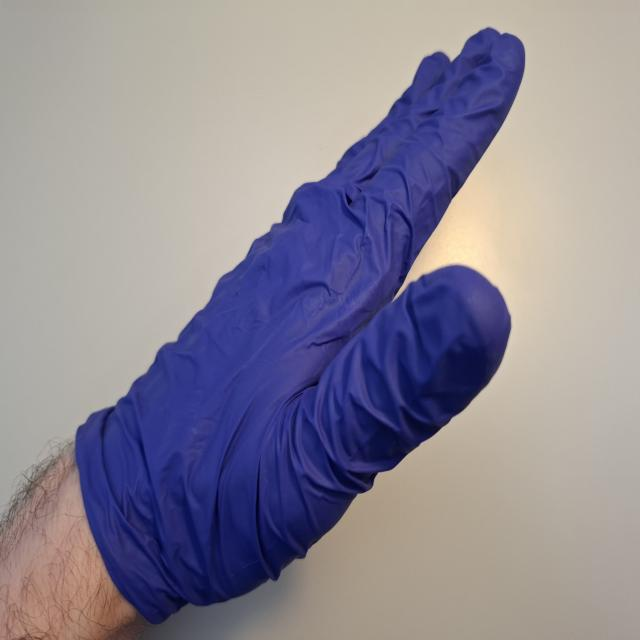glove_on: (72, 22, 529, 630)
